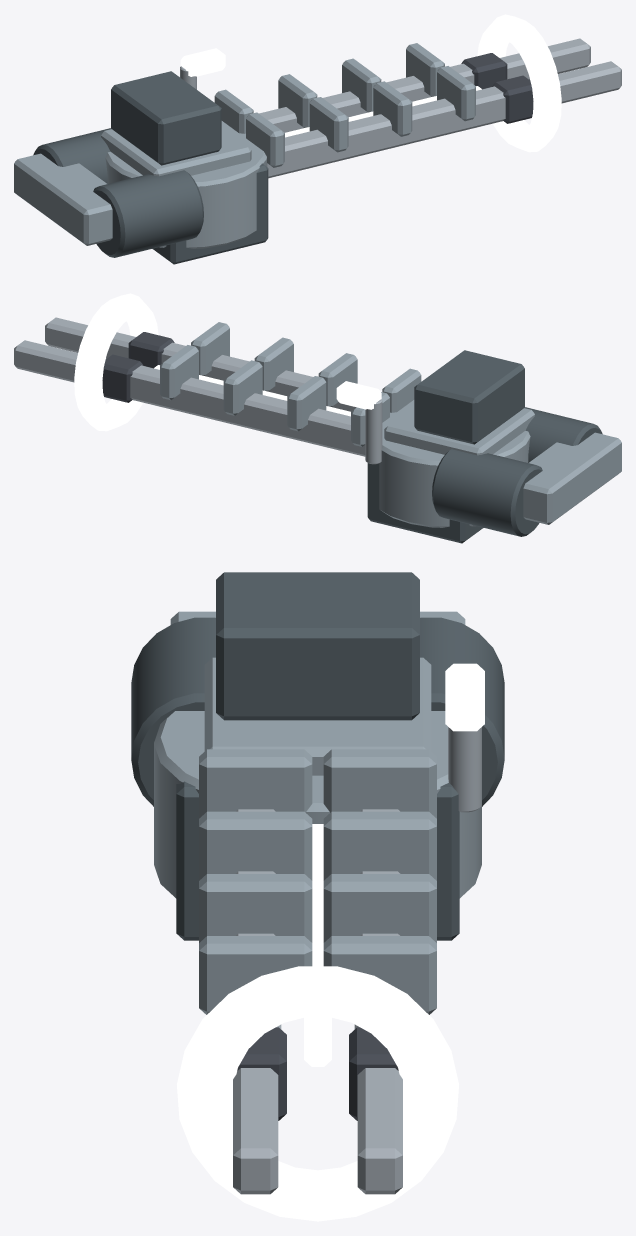
Rendered from rail_turret_l4.glb.
The picture shows the model from 3 angles, top to bottom: view 1: azimuth 30°, elevation 25°; view 2: azimuth 150°, elevation 25°; view 3: azimuth 270°, elevation 25°; orthographic projection. The views are drawn at different scales.
Visible parts, largest first — view 1: Cube.019, Cylinder.001, Cube.001, Cube.007, Cylinder, Torus, Cube.006, Cube, Cube.003, Cylinder.003, Cube.017, Cube.018 (+12 smaller); view 2: Cube.019, Cylinder.003, Cube.003, Cube.007, Torus, Cylinder, Cube.006, Cylinder.001, Cube, Cube.018, Cube.001, Cube.017 (+13 smaller); view 3: Torus, Cube.019, Cylinder, Cube.006, Cylinder.001, Cube.010, Cube.014, Cube, Cube.009, Cube.013, Cube.011, Cube.015 (+10 smaller).
Part boxes in pixels (left/top/right/bottom): Cube.019: left=111, top=71, right=221, bottom=165; Cylinder.001: left=93, top=170, right=203, bottom=257; Cube.001: left=267, top=86, right=505, bottom=178; Cube.007: left=14, top=153, right=112, bottom=245; Cylinder: left=105, top=121, right=267, bottom=248; Torus: left=477, top=14, right=561, bottom=152; Cube.006: left=101, top=128, right=251, bottom=176; Cube: left=152, top=163, right=268, bottom=264; Cube.003: left=259, top=63, right=474, bottom=132; Cylinder.003: left=33, top=128, right=111, bottom=183; Cube.017: left=558, top=61, right=621, bottom=103; Cube.018: left=500, top=38, right=590, bottom=79; Cube.019: left=414, top=350, right=524, bottom=444; Cylinder.003: left=432, top=449, right=542, bottom=536; Cube.003: left=130, top=365, right=365, bottom=456; Cube.007: left=523, top=432, right=621, bottom=524; Torus: left=74, top=293, right=158, bottom=431; Cylinder: left=379, top=400, right=530, bottom=527; Cube.006: left=384, top=407, right=534, bottom=455; Cylinder.001: left=524, top=407, right=602, bottom=462; Cube: left=367, top=463, right=483, bottom=543; Cube.018: left=14, top=340, right=77, bottom=382; Cube.001: left=161, top=342, right=356, bottom=411; Cube.017: left=45, top=317, right=135, bottom=358; Torus: left=177, top=966, right=458, bottom=1221; Cube.019: left=216, top=572, right=419, bottom=720; Cylinder: left=154, top=711, right=481, bottom=898; Cube.006: left=204, top=657, right=431, bottom=775; Cylinder.001: left=131, top=617, right=215, bottom=806; Cube.010: left=199, top=811, right=312, bottom=880; Cube.014: left=323, top=811, right=436, bottom=880; Cube: left=176, top=781, right=459, bottom=940; Cube.009: left=199, top=749, right=312, bottom=818; Cube.013: left=323, top=749, right=436, bottom=818; Cube.011: left=199, top=874, right=312, bottom=942; Cube.015: left=323, top=874, right=436, bottom=942.
Bounding box in the file's own units: 2.26 × 0.54 × 0.66.
